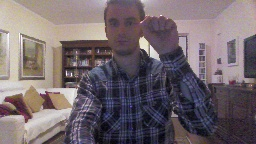Pugno: (138, 13, 180, 55)
